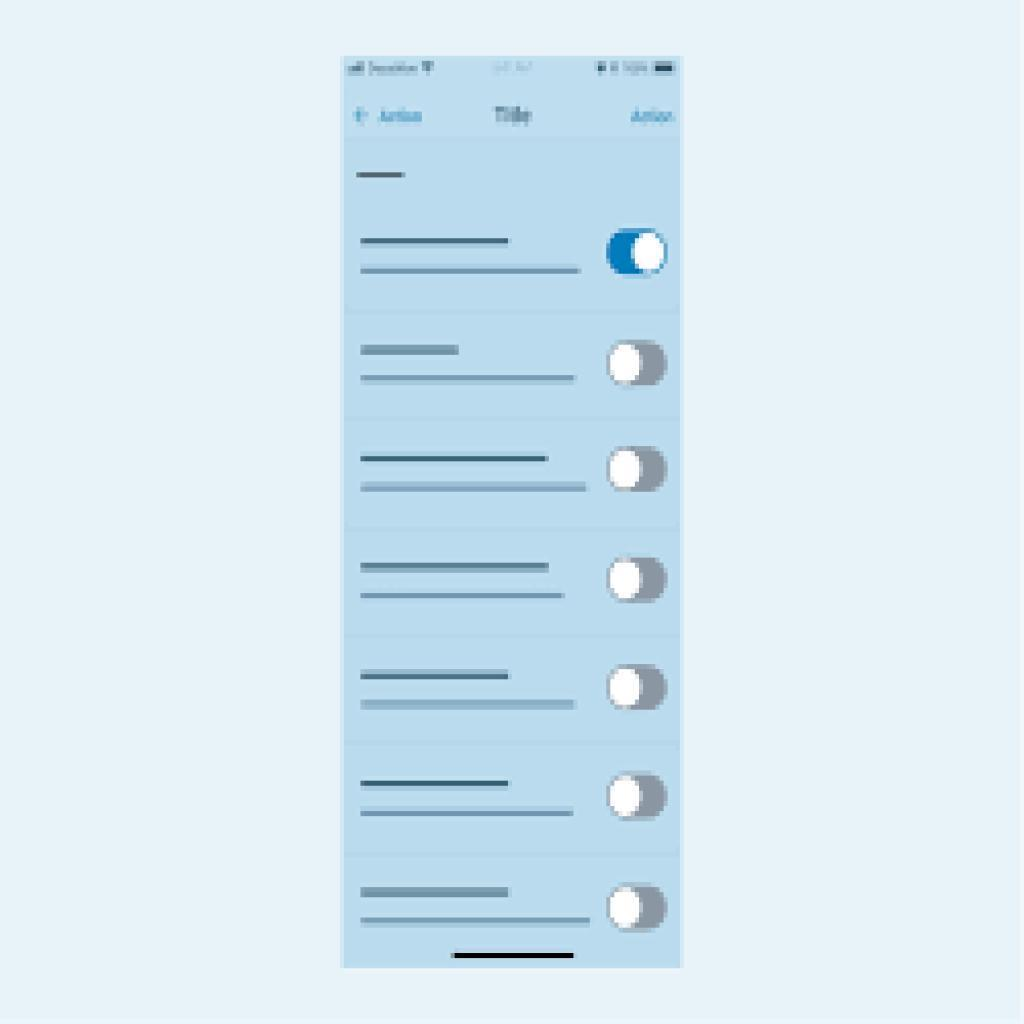switch: (609, 884, 672, 936), (609, 772, 671, 824), (608, 447, 670, 496), (608, 558, 670, 606), (608, 342, 671, 389), (607, 664, 669, 711), (608, 230, 670, 276)
